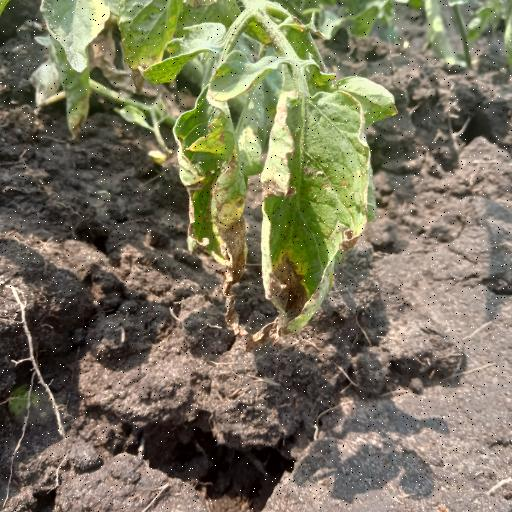Tomato_Brown_Spots: (260, 71, 375, 340), (173, 87, 250, 289)
